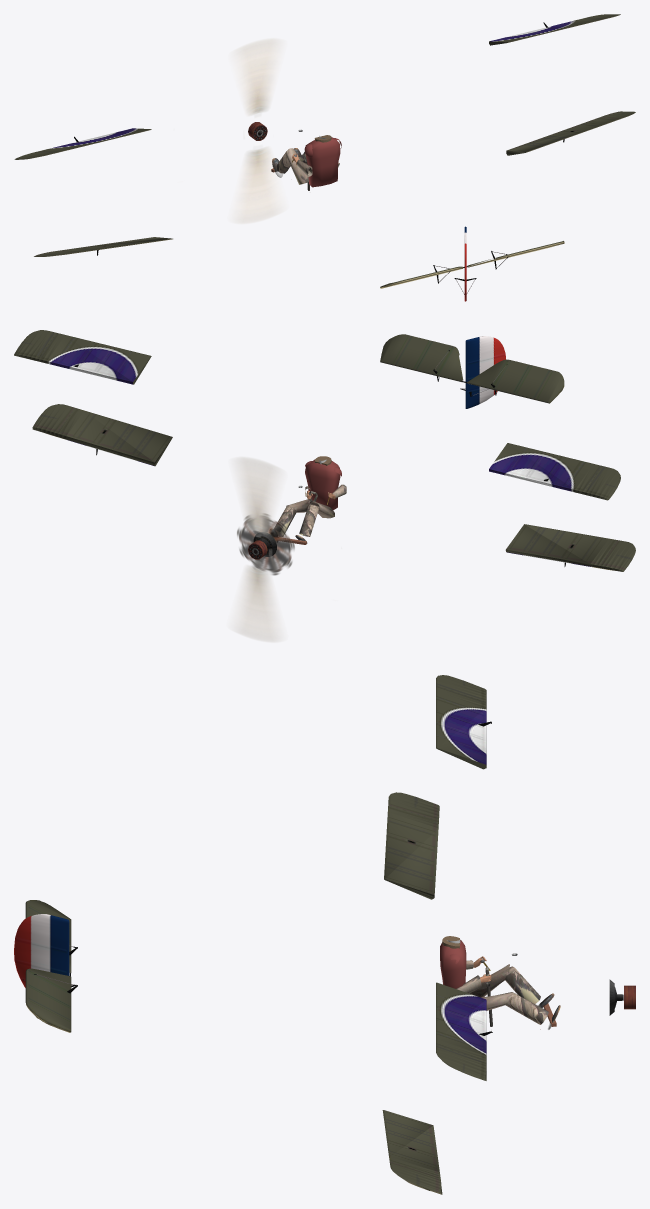
File: sf1_int4.glb
3 renders of one model, top to bottom at view 1: azimuth 30°, elevation 25°; view 2: azimuth 150°, elevation 25°; view 3: azimuth 270°, elevation 25°, orthographic. The views are drawn at different scales.
Parts seen in each view (by area): view 1: anm_propeller, pilot, anm_aileronBR, anm_aileronTL, anm_aileronTR, anm_elevator, anim_aileronBL; view 2: anm_propeller, anm_elevator, anm_aileronBR, anm_aileronTL, anm_aileronTR, anim_aileronBL, anm_rudder, engine, pilot, prop_hub; view 3: anim_aileronBL, anm_aileronTR, anm_aileronTL, anm_aileronBR, anm_elevator, anm_rudder, pilot, pilot_footR, pilot_footL.
Part boxes in pixels (left/top/right/bottom): anm_propeller: left=233, top=38, right=283, bottom=223; pilot: left=304, top=135, right=341, bottom=187; anm_aileronBR: left=506, top=111, right=635, bottom=155; anm_aileronTL: left=14, top=128, right=151, bottom=159; anm_aileronTR: left=489, top=14, right=620, bottom=45; anm_elevator: left=380, top=241, right=564, bottom=288; anim_aileronBL: left=34, top=237, right=172, bottom=256; anm_propeller: left=232, top=457, right=282, bottom=642; anm_elevator: left=380, top=334, right=564, bottom=403; anm_aileronBR: left=32, top=404, right=172, bottom=466; anm_aileronTL: left=489, top=443, right=620, bottom=500; anm_aileronTR: left=14, top=330, right=151, bottom=384; anim_aileronBL: left=505, top=524, right=635, bottom=571; anm_rudder: left=460, top=336, right=505, bottom=408; engine: left=237, top=513, right=294, bottom=575; pilot: left=305, top=456, right=341, bottom=510; prop_hub: left=248, top=532, right=276, bottom=559; anim_aileronBL: left=384, top=792, right=439, bottom=899; anm_aileronTR: left=436, top=982, right=492, bottom=1080; anm_aileronTL: left=436, top=675, right=491, bottom=769; anm_aileronBR: left=382, top=1110, right=442, bottom=1194; anm_elevator: left=25, top=900, right=77, bottom=1032; anm_rudder: left=14, top=914, right=74, bottom=987; pilot: left=440, top=936, right=540, bottom=1029; pilot_footR: left=505, top=992, right=560, bottom=1029; pilot_footL: left=505, top=966, right=554, bottom=1007.
Size of the model in its own units: 8.42 by 2.6 by 5.64.
15 materials, 11 textured.
